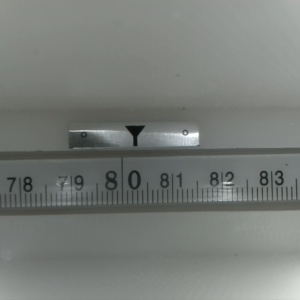0: (127, 170, 141, 190)
1: (176, 172, 182, 187)
2: (224, 171, 234, 186)
3: (274, 170, 283, 186)
7: (5, 176, 16, 192), (56, 177, 66, 190)
8: (104, 171, 117, 190), (258, 170, 268, 186), (22, 176, 32, 192), (159, 172, 169, 188), (209, 171, 218, 186)
9: (73, 176, 83, 190)
finger: (123, 126, 145, 146)
